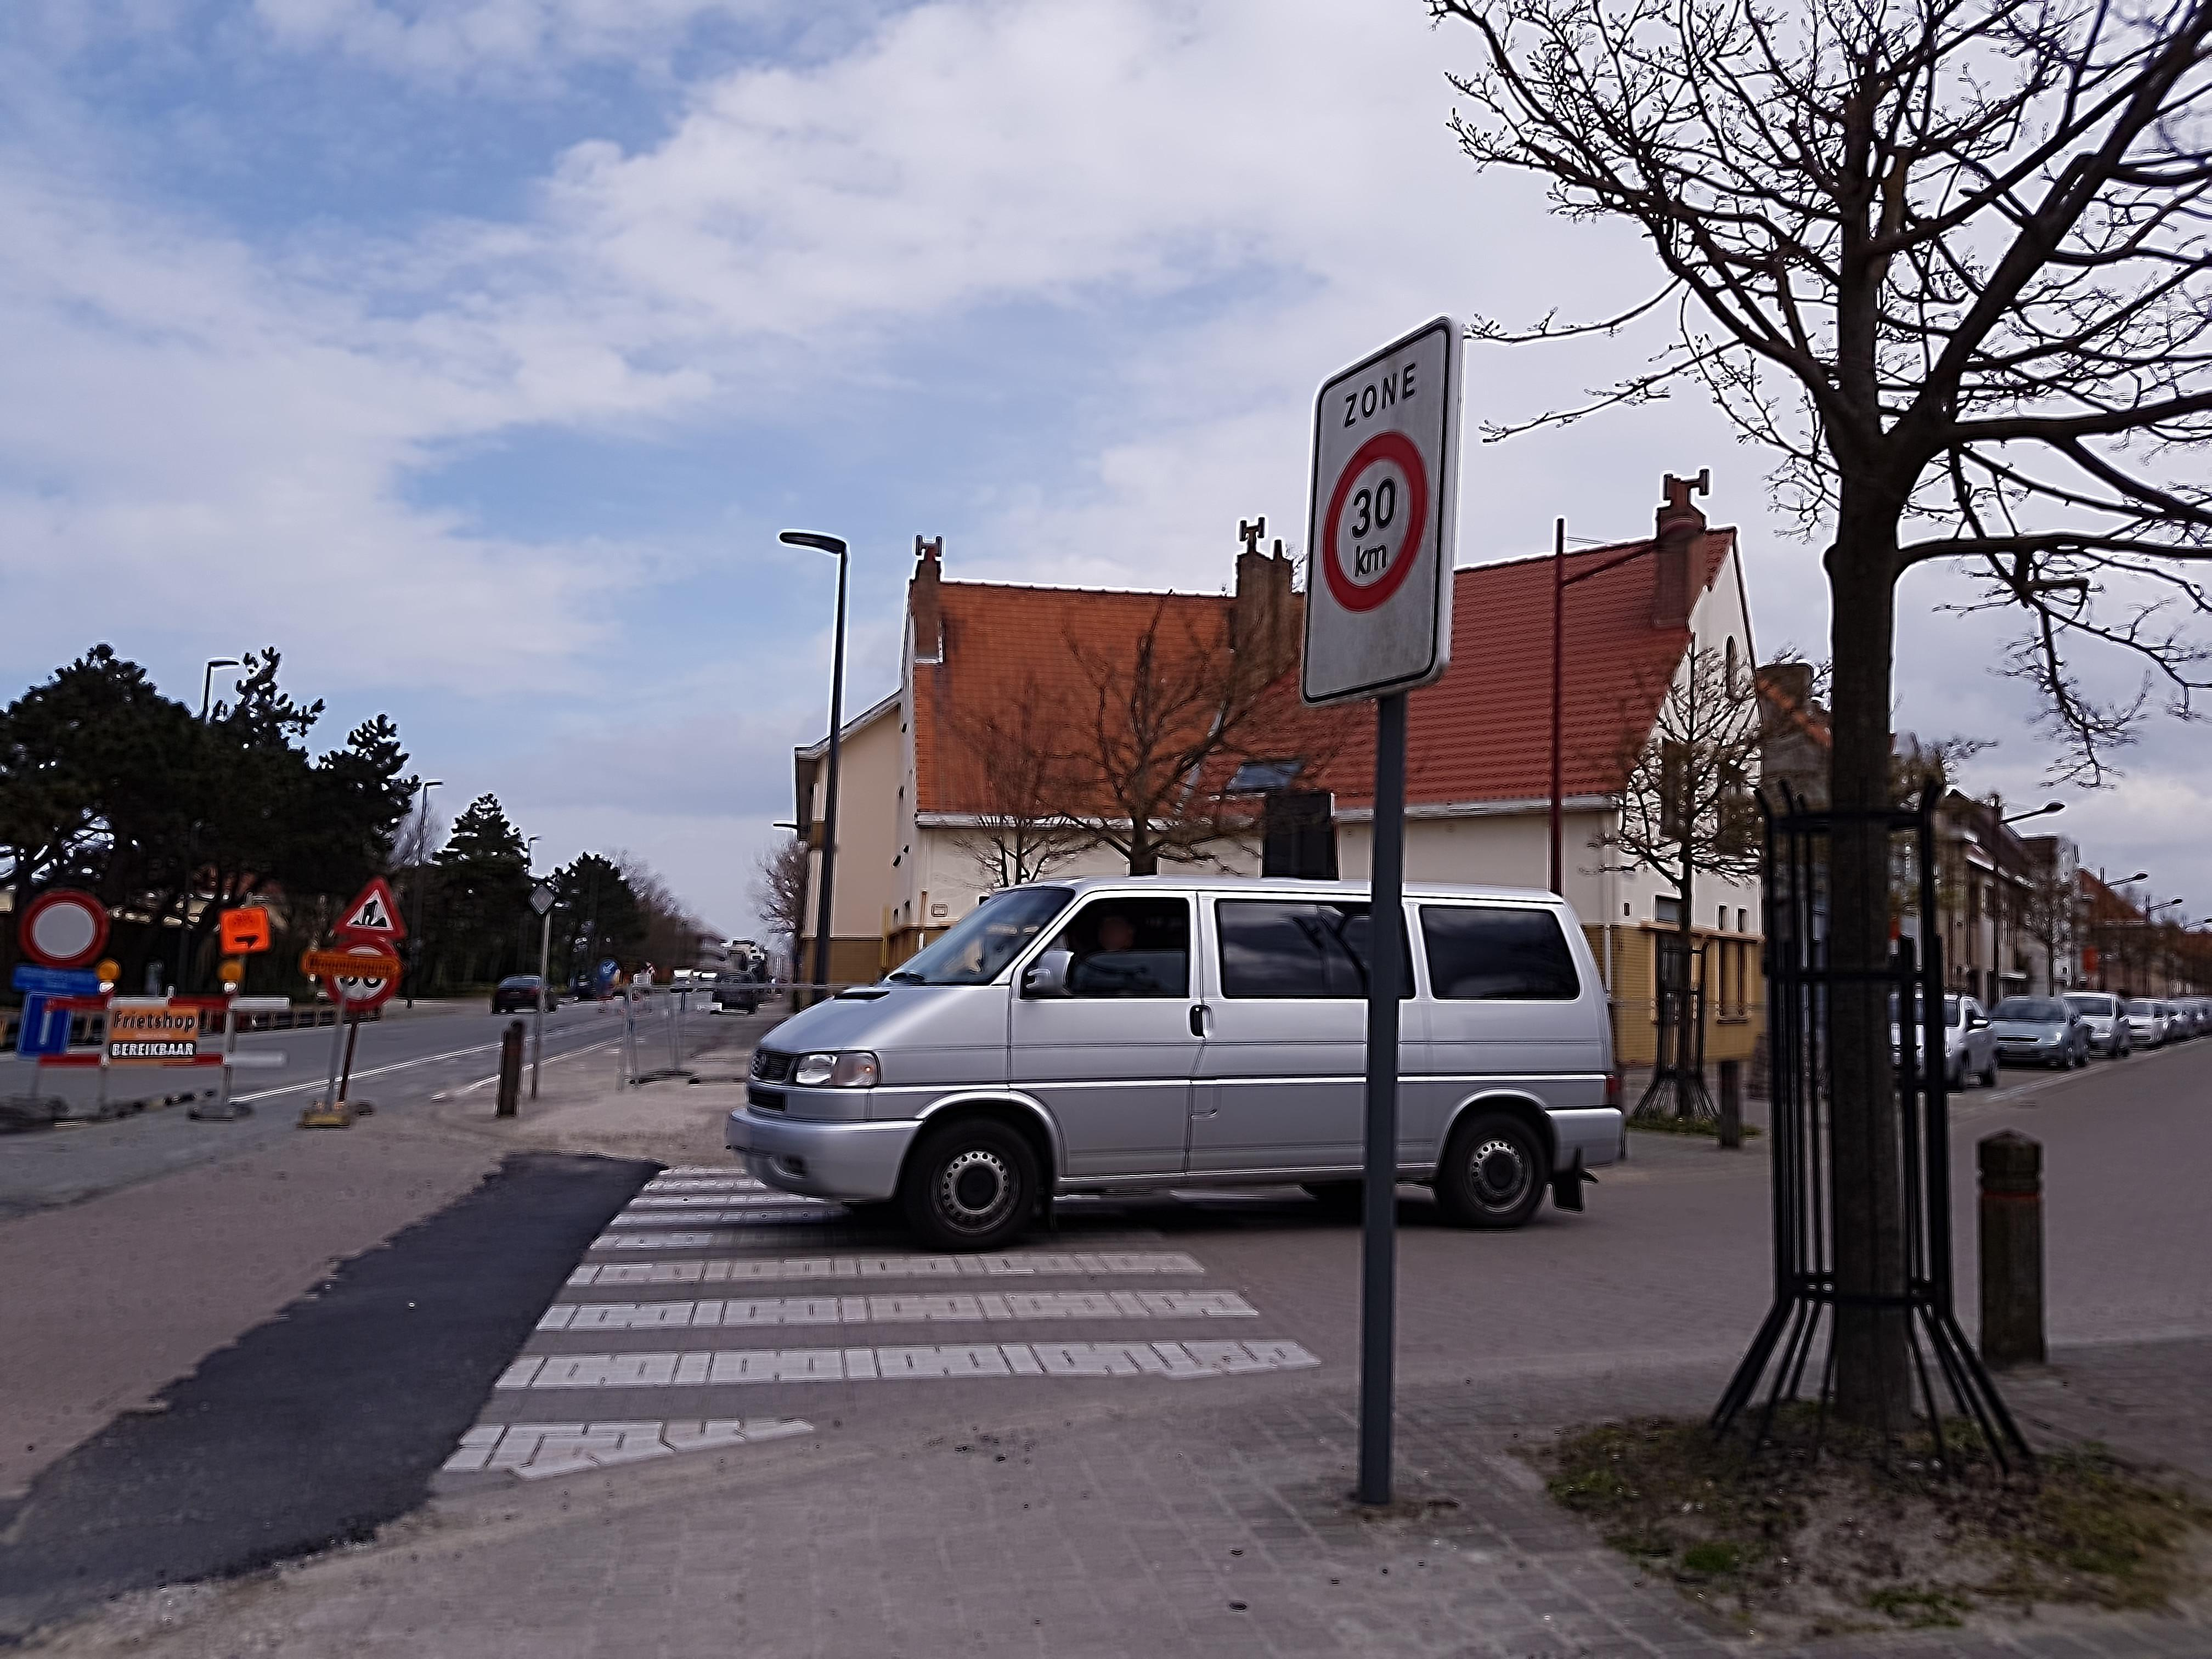vinyl banner: (101, 979, 225, 1068)
